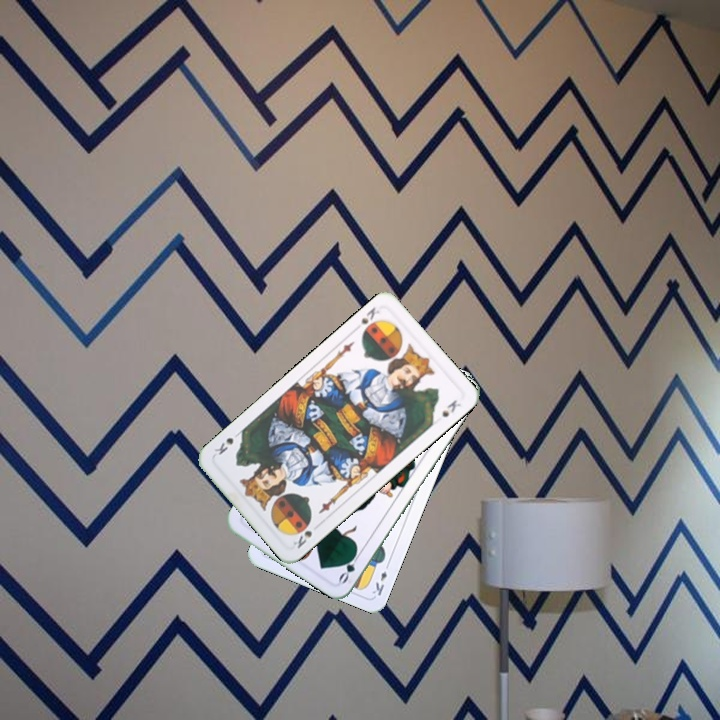EK: (368, 559, 392, 598)
GO: (335, 547, 363, 586)
SK: (357, 303, 383, 338), (289, 519, 315, 551)
